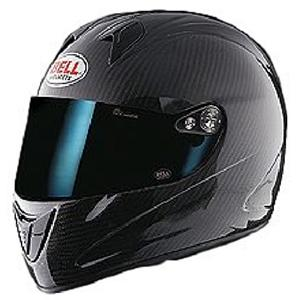helmet: (31, 23, 289, 272)
